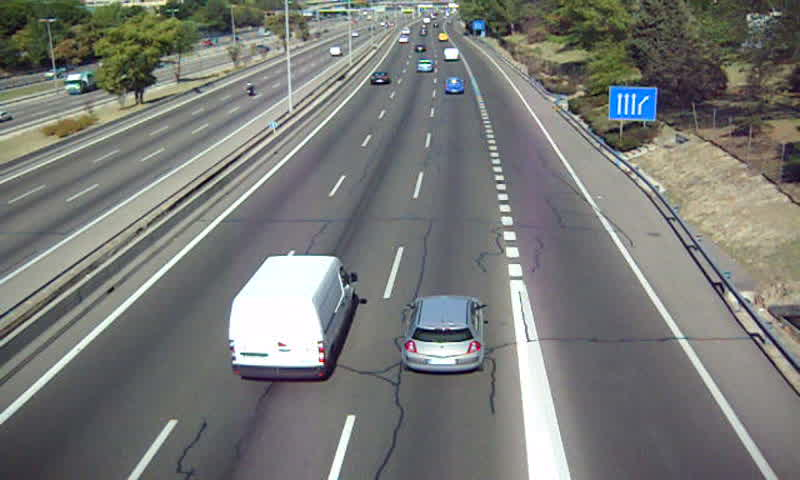car: (404, 296, 484, 373), (443, 76, 467, 96), (368, 71, 392, 86), (415, 59, 433, 74)
van: (229, 255, 355, 382), (442, 48, 460, 62)
